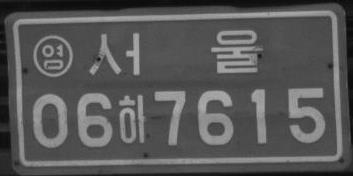0: (31, 92, 68, 149)
1: (241, 88, 277, 144)
5: (286, 87, 325, 144)
6: (196, 88, 234, 147), (76, 91, 113, 149)
7: (152, 89, 187, 145)
서울_D: (88, 28, 264, 77)
영: (32, 33, 74, 78)
하: (118, 94, 147, 145)
